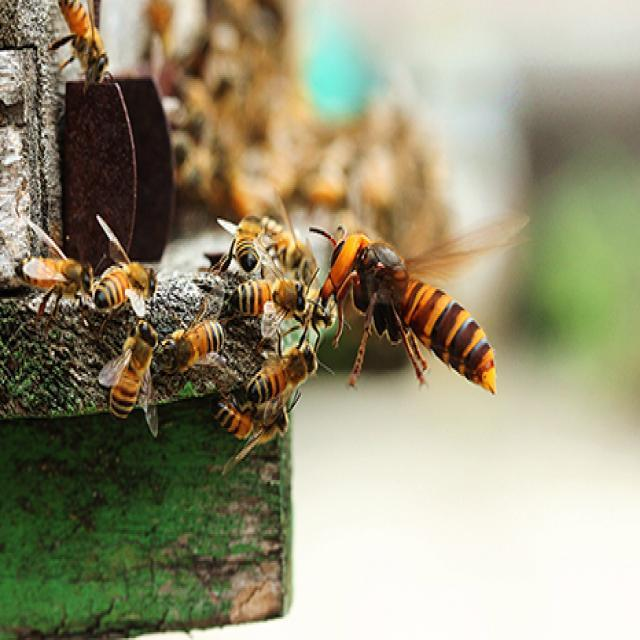Wasp: (313, 213, 525, 399)
